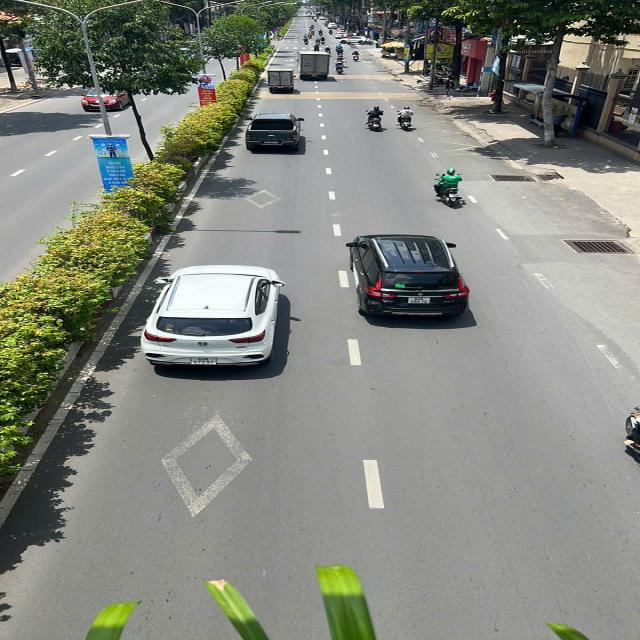ben: (296, 49, 334, 82), (263, 68, 299, 94)
car: (141, 261, 293, 375), (343, 231, 477, 324), (241, 110, 307, 153), (78, 82, 132, 112), (340, 34, 374, 47)
motobyte: (429, 166, 467, 208), (364, 104, 387, 134), (395, 105, 417, 131), (334, 58, 347, 74)
